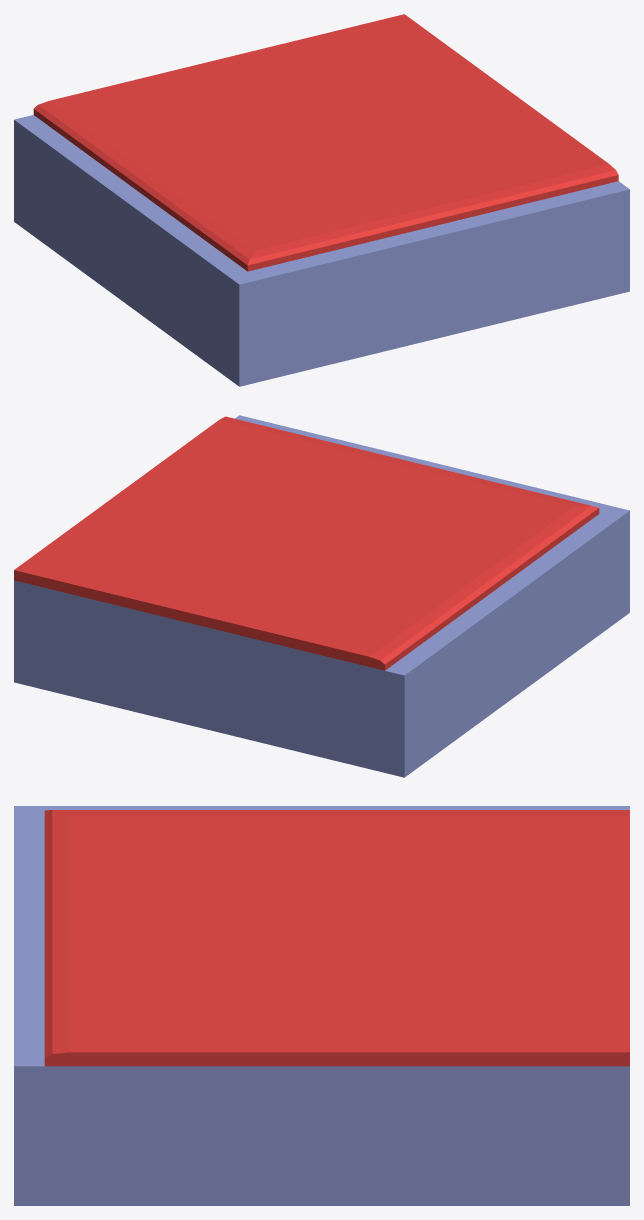
File: tileWholeCorner.fbx
3 renders of one model, top to bottom at view 1: azimuth 30°, elevation 25°; view 2: azimuth 150°, elevation 25°; view 3: azimuth 270°, elevation 25°, orthographic. The views are drawn at different scales.
Visible parts, largest first — view 1: tileWholeCorner; view 2: tileWholeCorner; view 3: tileWholeCorner.
Part boxes in pixels (x1,y1,x2,y2): tileWholeCorner: (14,14,629,386); tileWholeCorner: (14,415,629,777); tileWholeCorner: (14,806,629,1205).
Size of the model in its own units: 400 by 110 by 400.
